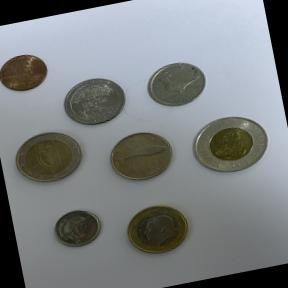coin: (181, 104, 280, 189), (115, 193, 204, 266), (96, 122, 182, 195), (4, 124, 90, 196), (55, 67, 136, 133), (45, 201, 111, 257), (0, 42, 60, 103)
